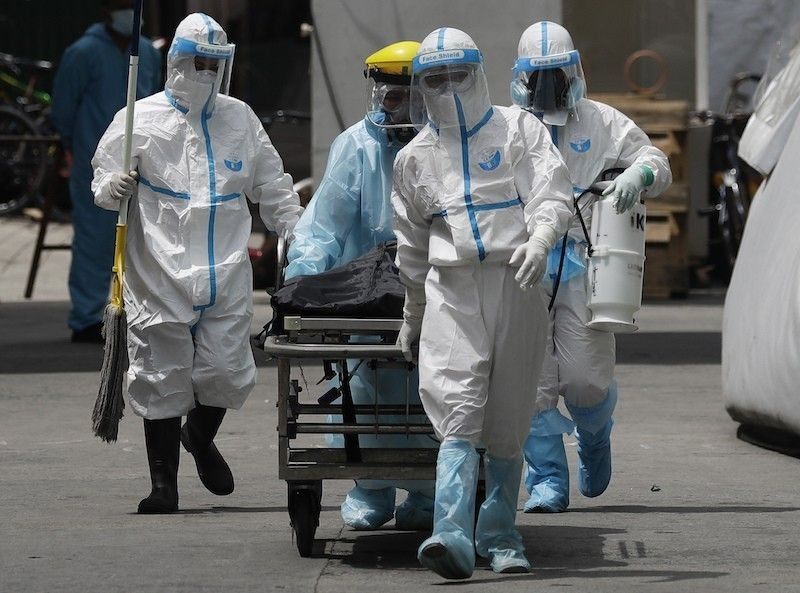Coverall: (104, 12, 289, 411), (508, 18, 673, 431), (392, 26, 550, 454)
Gloves: (395, 284, 434, 363), (507, 236, 560, 290), (601, 161, 654, 214)
Goggles: (420, 71, 478, 96)
